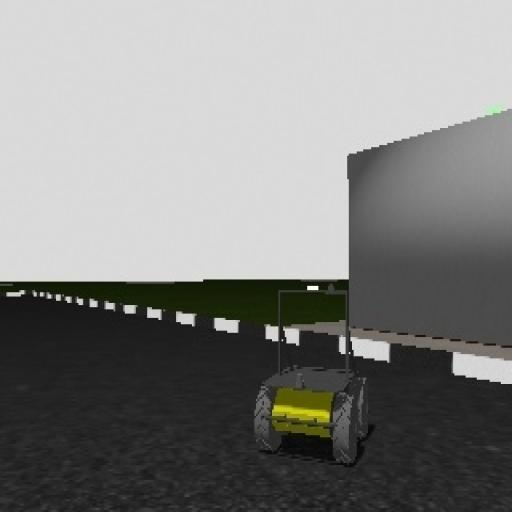huskya200: (234, 283, 370, 472)
